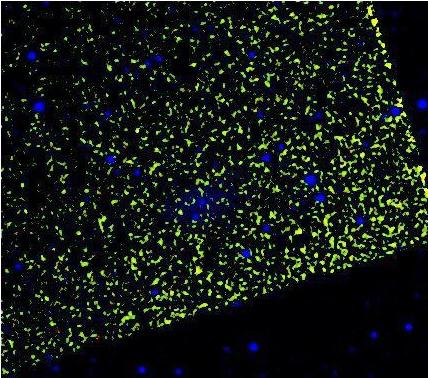star: (154, 164, 184, 194)
